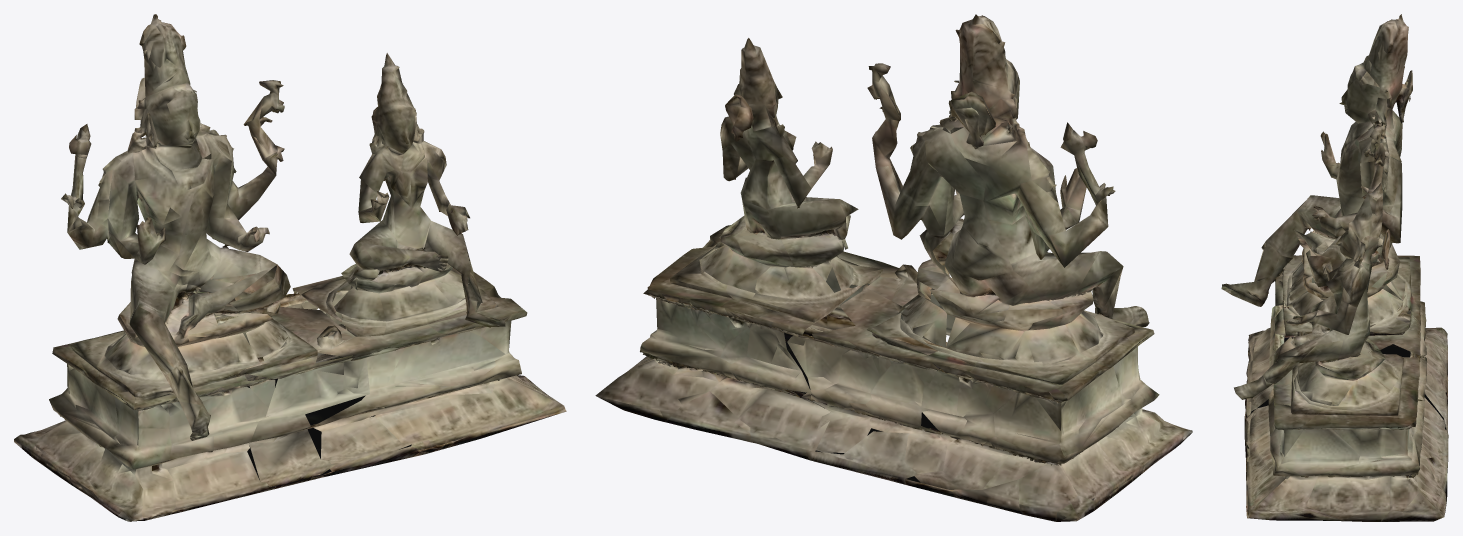
File: somaskanda-lo.glb
The picture shows the model from 3 angles, left to right: view 1: azimuth 30°, elevation 25°; view 2: azimuth 150°, elevation 25°; view 3: azimuth 270°, elevation 25°; orthographic projection. The views are drawn at different scales.
Parts seen in each view (by area): view 1: Object_2, Object_3; view 2: Object_2, Object_3; view 3: Object_2, Object_3.
Part boxes in pixels (x1,y1,x2,y2): Object_2: (14, 14, 566, 521); Object_3: (193, 80, 386, 486); Object_2: (595, 14, 1192, 521); Object_3: (777, 63, 964, 452); Object_2: (1221, 14, 1448, 521); Object_3: (1246, 76, 1445, 428).
Size of the model in its own units: 0.6688 by 0.6104 by 0.3369.
Materials: 1 (1 with a texture image).
